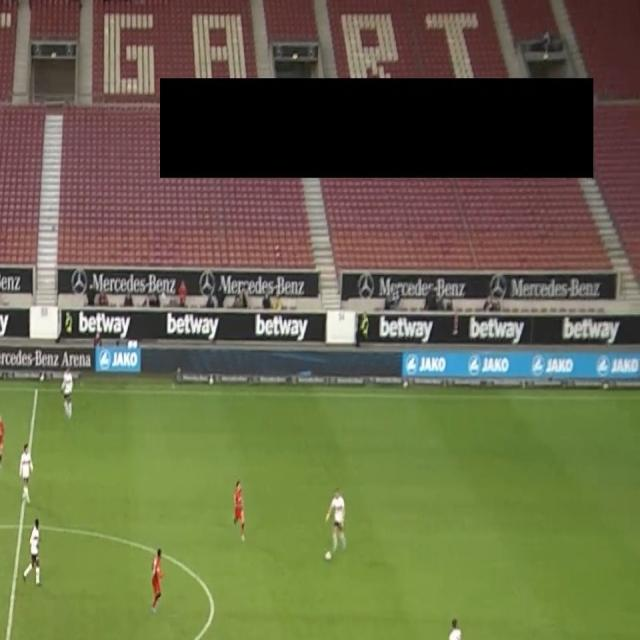ball: (324, 548, 333, 562)
